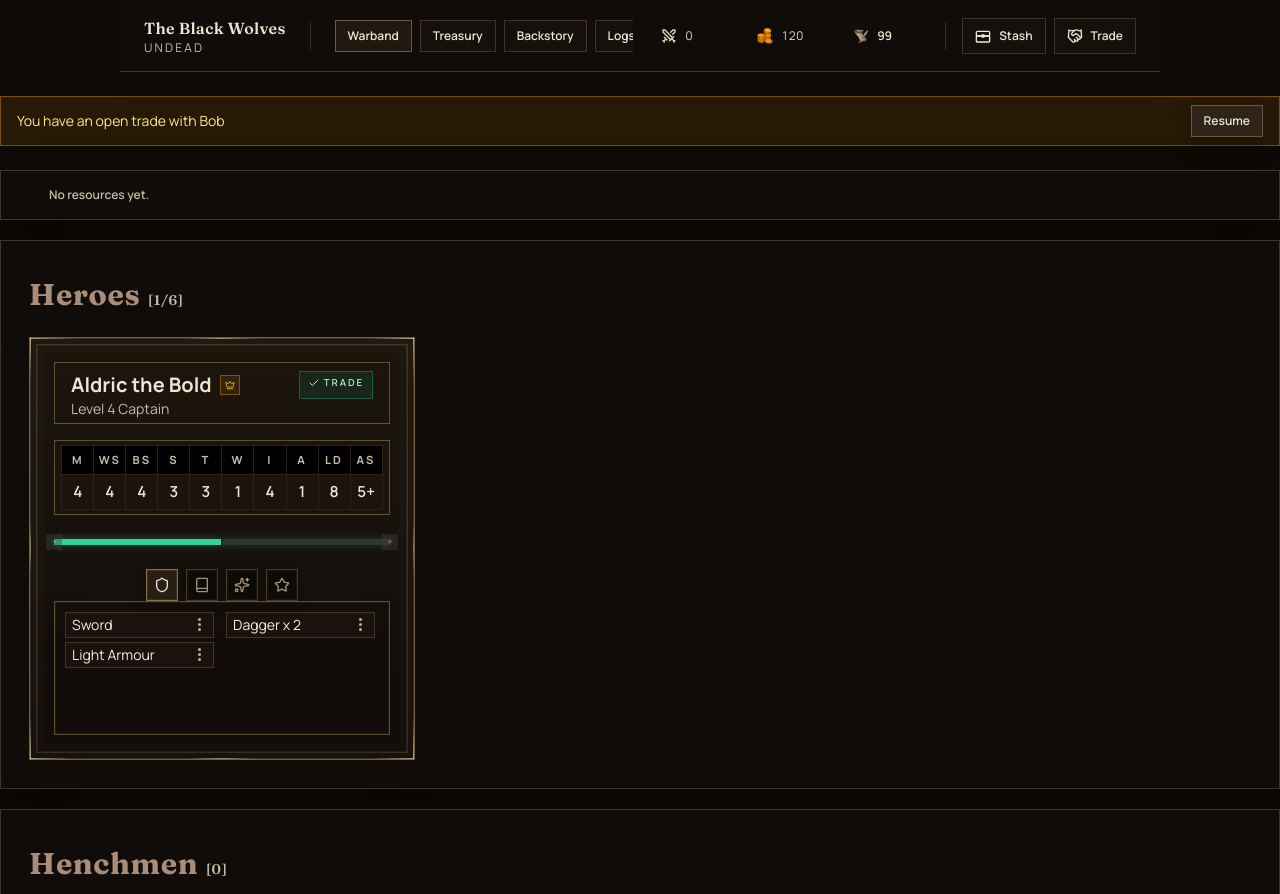
Warband page: resuming an open trade › offers a request you sent and says it is waiting once resumed, with its time left
Click the button "Resume". click: (1227, 121)
box: [1190,105,1263,137]
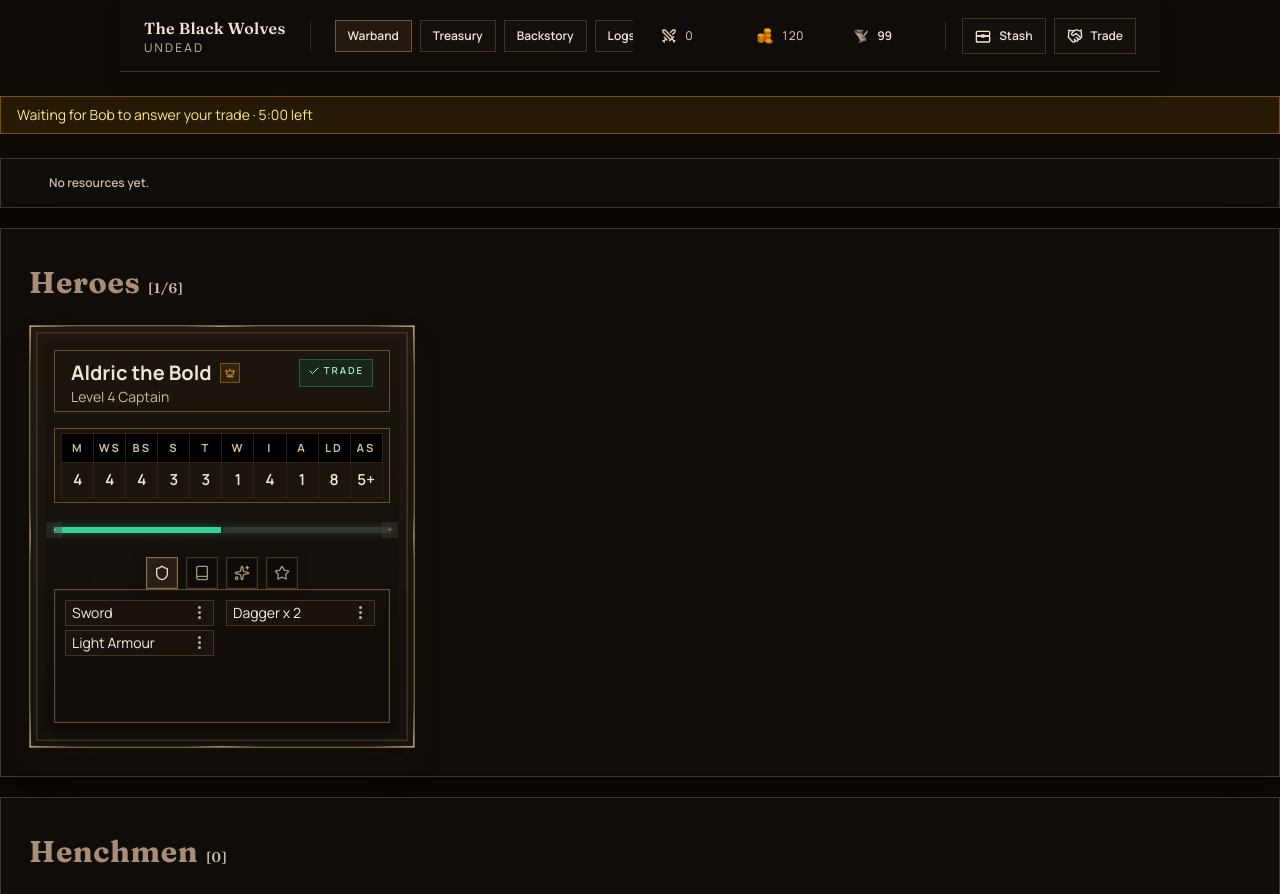
Check: the message reads "Waiting for Bob to answer your trade · 5:00 left", box [0,96,1279,134]
